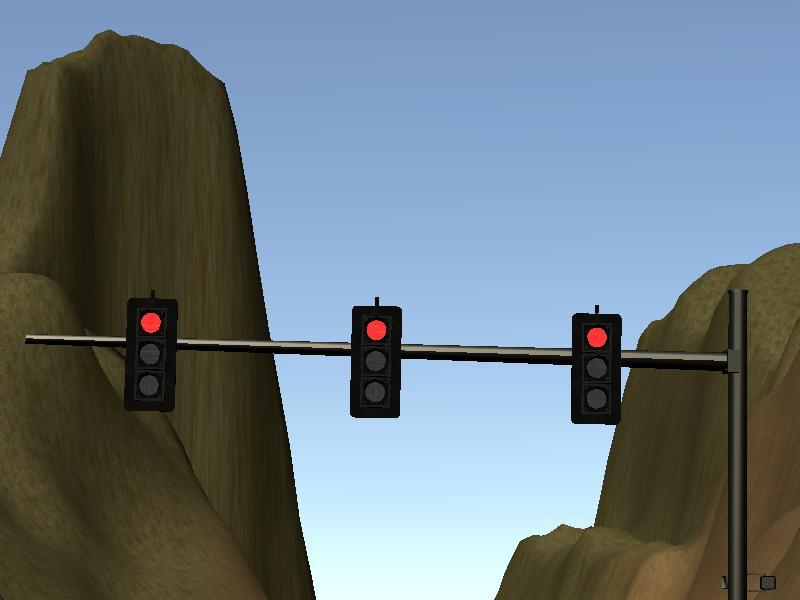Red: (353, 310, 401, 415), (128, 300, 173, 404), (576, 316, 620, 420)
